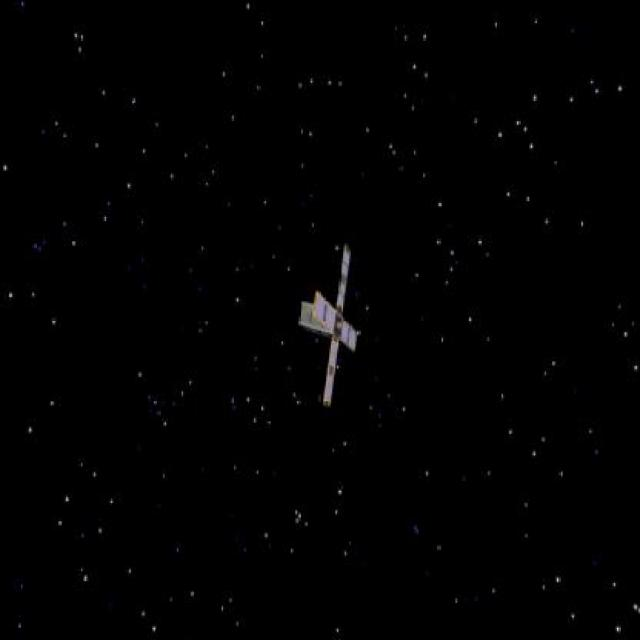satellite: (287, 248, 375, 406)
